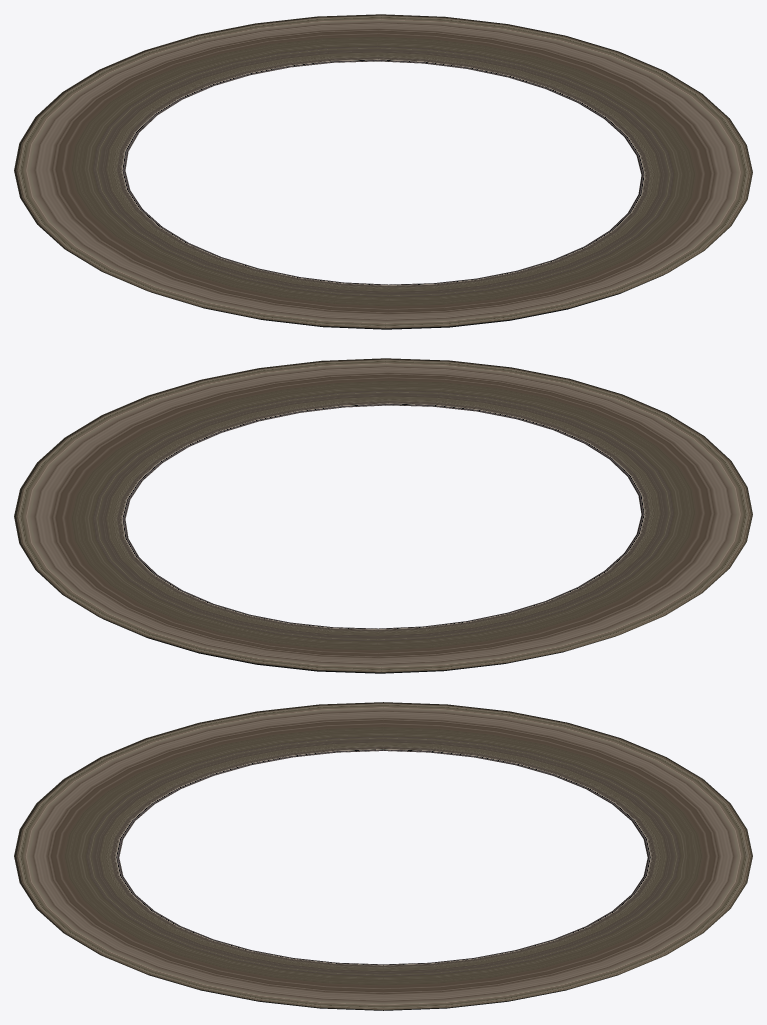
The model's file is Rings_of_Saturnv02.FBX.
The picture shows the model from 3 angles, top to bottom: view 1: azimuth 30°, elevation 25°; view 2: azimuth 150°, elevation 25°; view 3: azimuth 270°, elevation 25°; orthographic projection.
Visible parts, largest first — view 1: Saturns Rings; view 2: Saturns Rings; view 3: Saturns Rings.
Boxes of the visible parts, x1,y1,x2,y2 form: Saturns Rings: (14,14,752,329); Saturns Rings: (14,358,752,673); Saturns Rings: (14,702,752,1010).
Size of the model in its own units: 146 by 0.661 by 148.
Materials: 1 (1 with a texture image).
